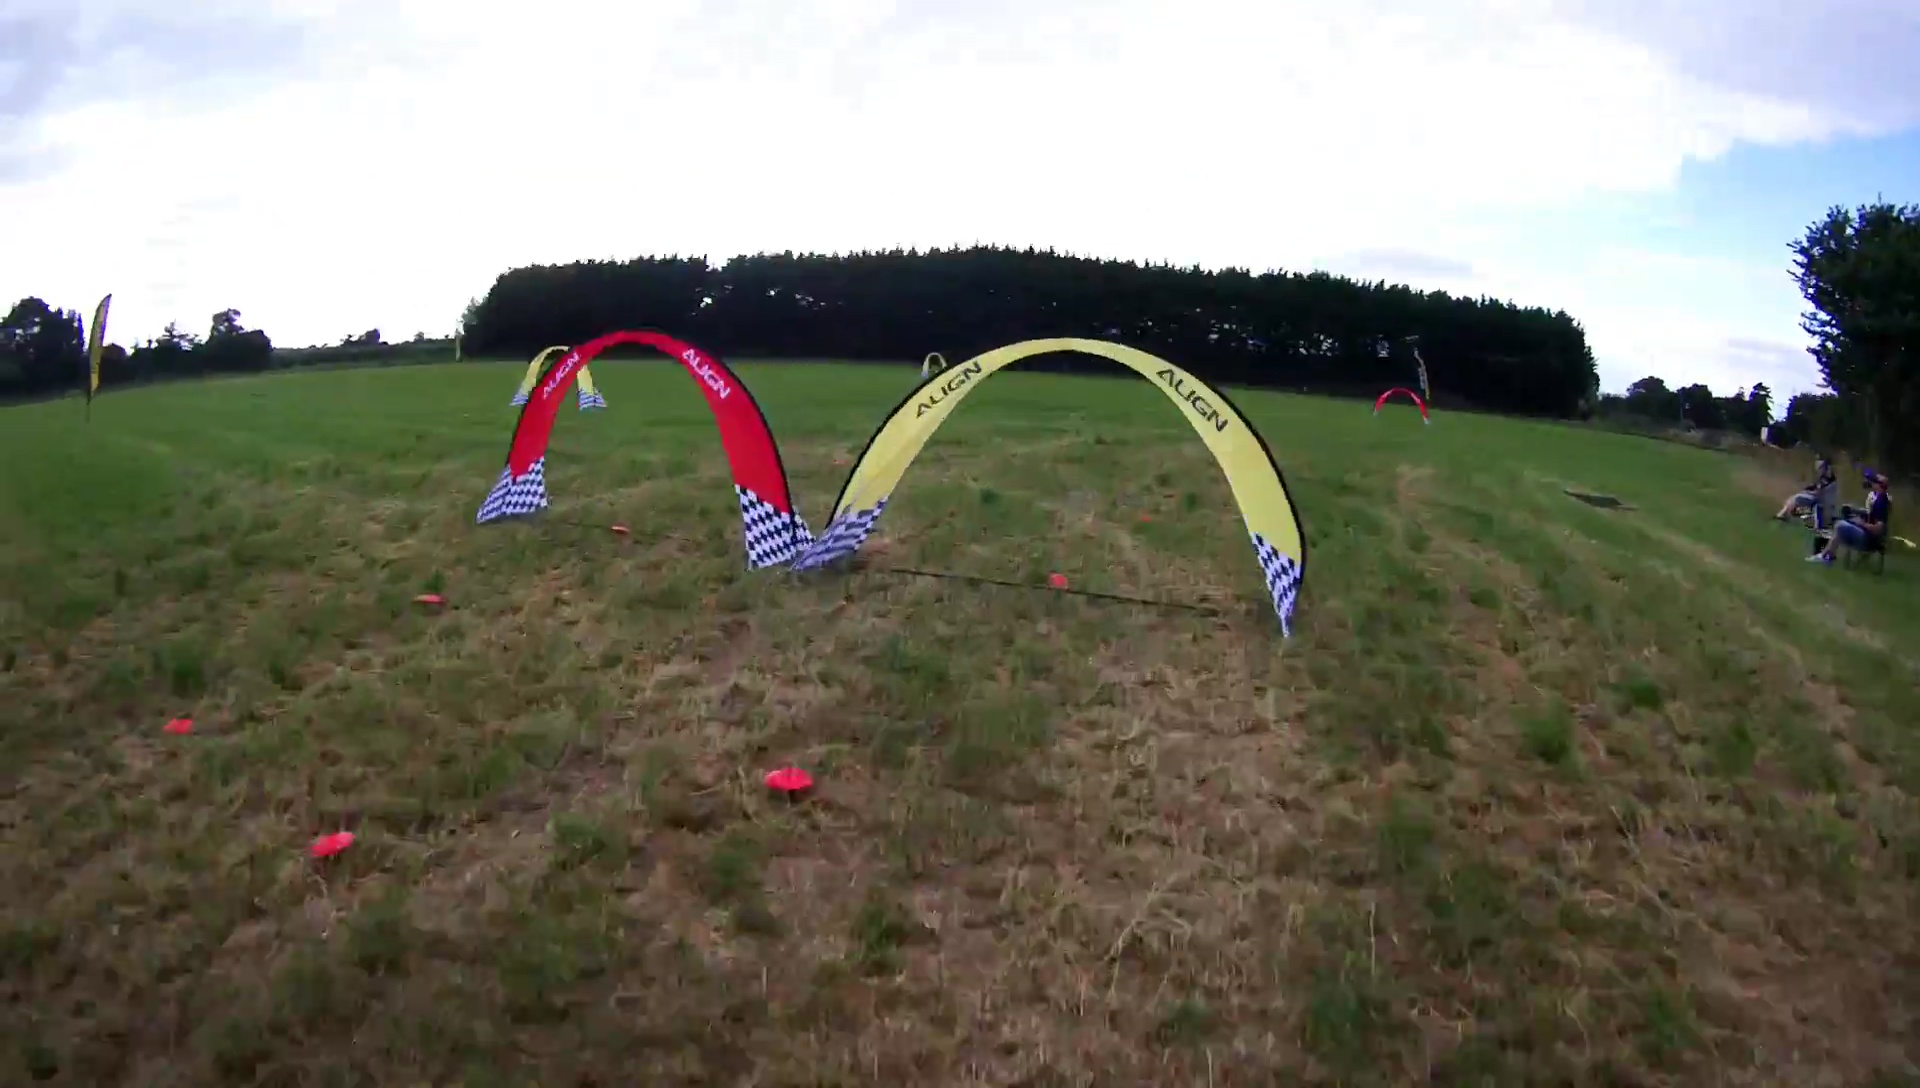gate: (804, 332, 1309, 636), (473, 326, 818, 575), (506, 342, 609, 411), (1370, 384, 1433, 426), (916, 351, 953, 382)
